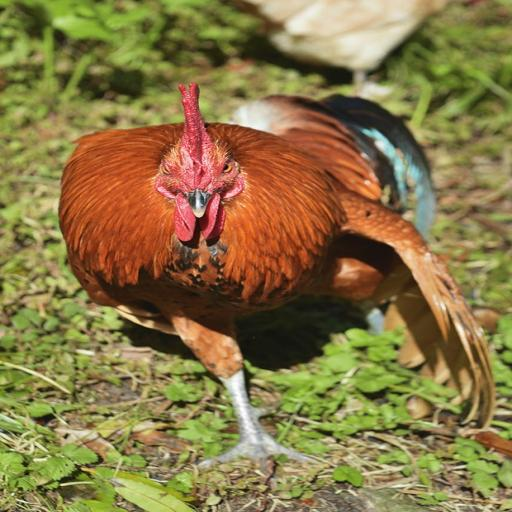disease: (143, 143, 199, 208)
